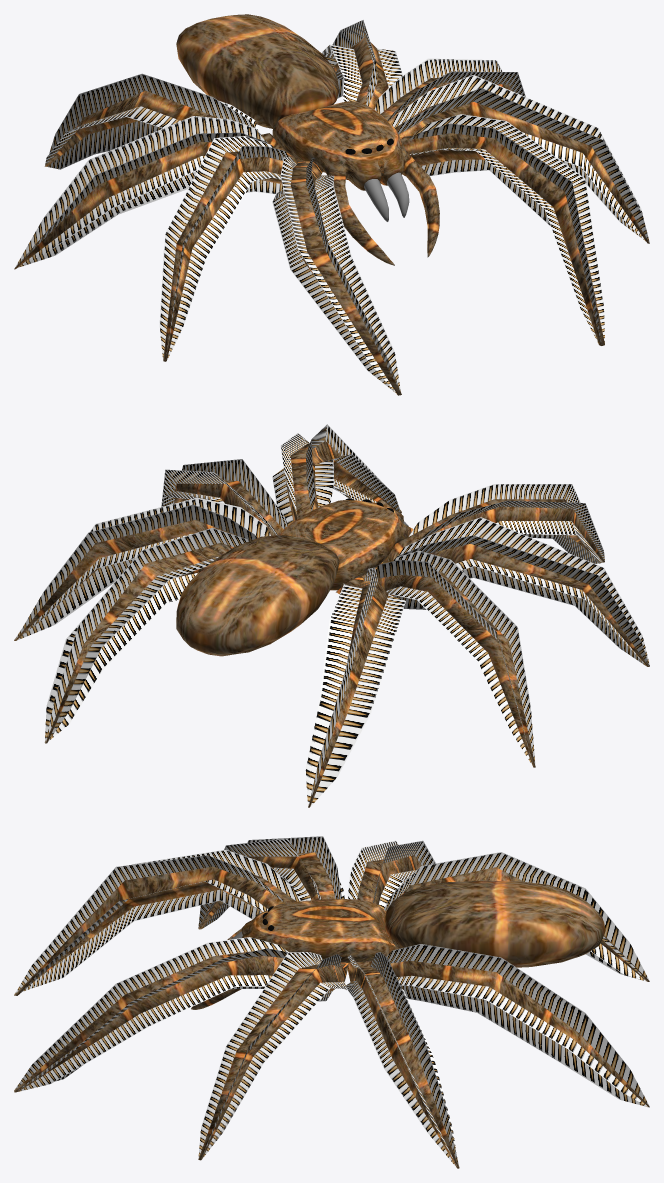
Rendered from spider.gltf.
3 renders of one model, top to bottom at view 1: azimuth 30°, elevation 25°; view 2: azimuth 150°, elevation 25°; view 3: azimuth 270°, elevation 25°, orthographic. The views are drawn at different scales.
Parts seen in each view (by area): view 1: Cube_001, Cube_004, Cube, Cube_003; view 2: Cube_001, Cube, Cube_004; view 3: Cube_001, Cube, Cube_004.
Part boxes in pixels (x1,y1,x2,y2): Cube_001: (15,20,649,394); Cube_004: (176,14,439,265); Cube: (14,37,649,395); Cube_003: (364,172,409,221); Cube_001: (15,424,649,806); Cube: (14,441,649,807); Cube_004: (176,500,413,656); Cube_001: (14,836,649,1167); Cube: (14,852,649,1168); Cube_004: (191,880,605,1009).
Size of what is drawn, in the model's own units: 9.2 by 2.65 by 9.93.
Materials: 7 (5 with a texture image).
